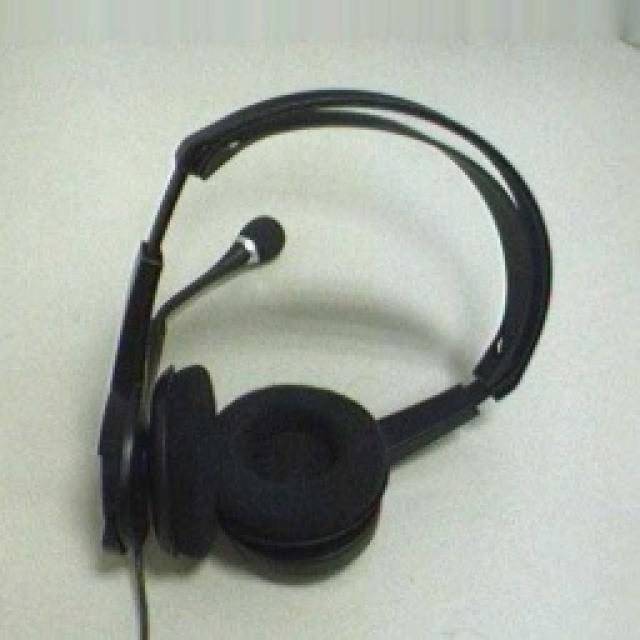headphones: (95, 85, 553, 570)
